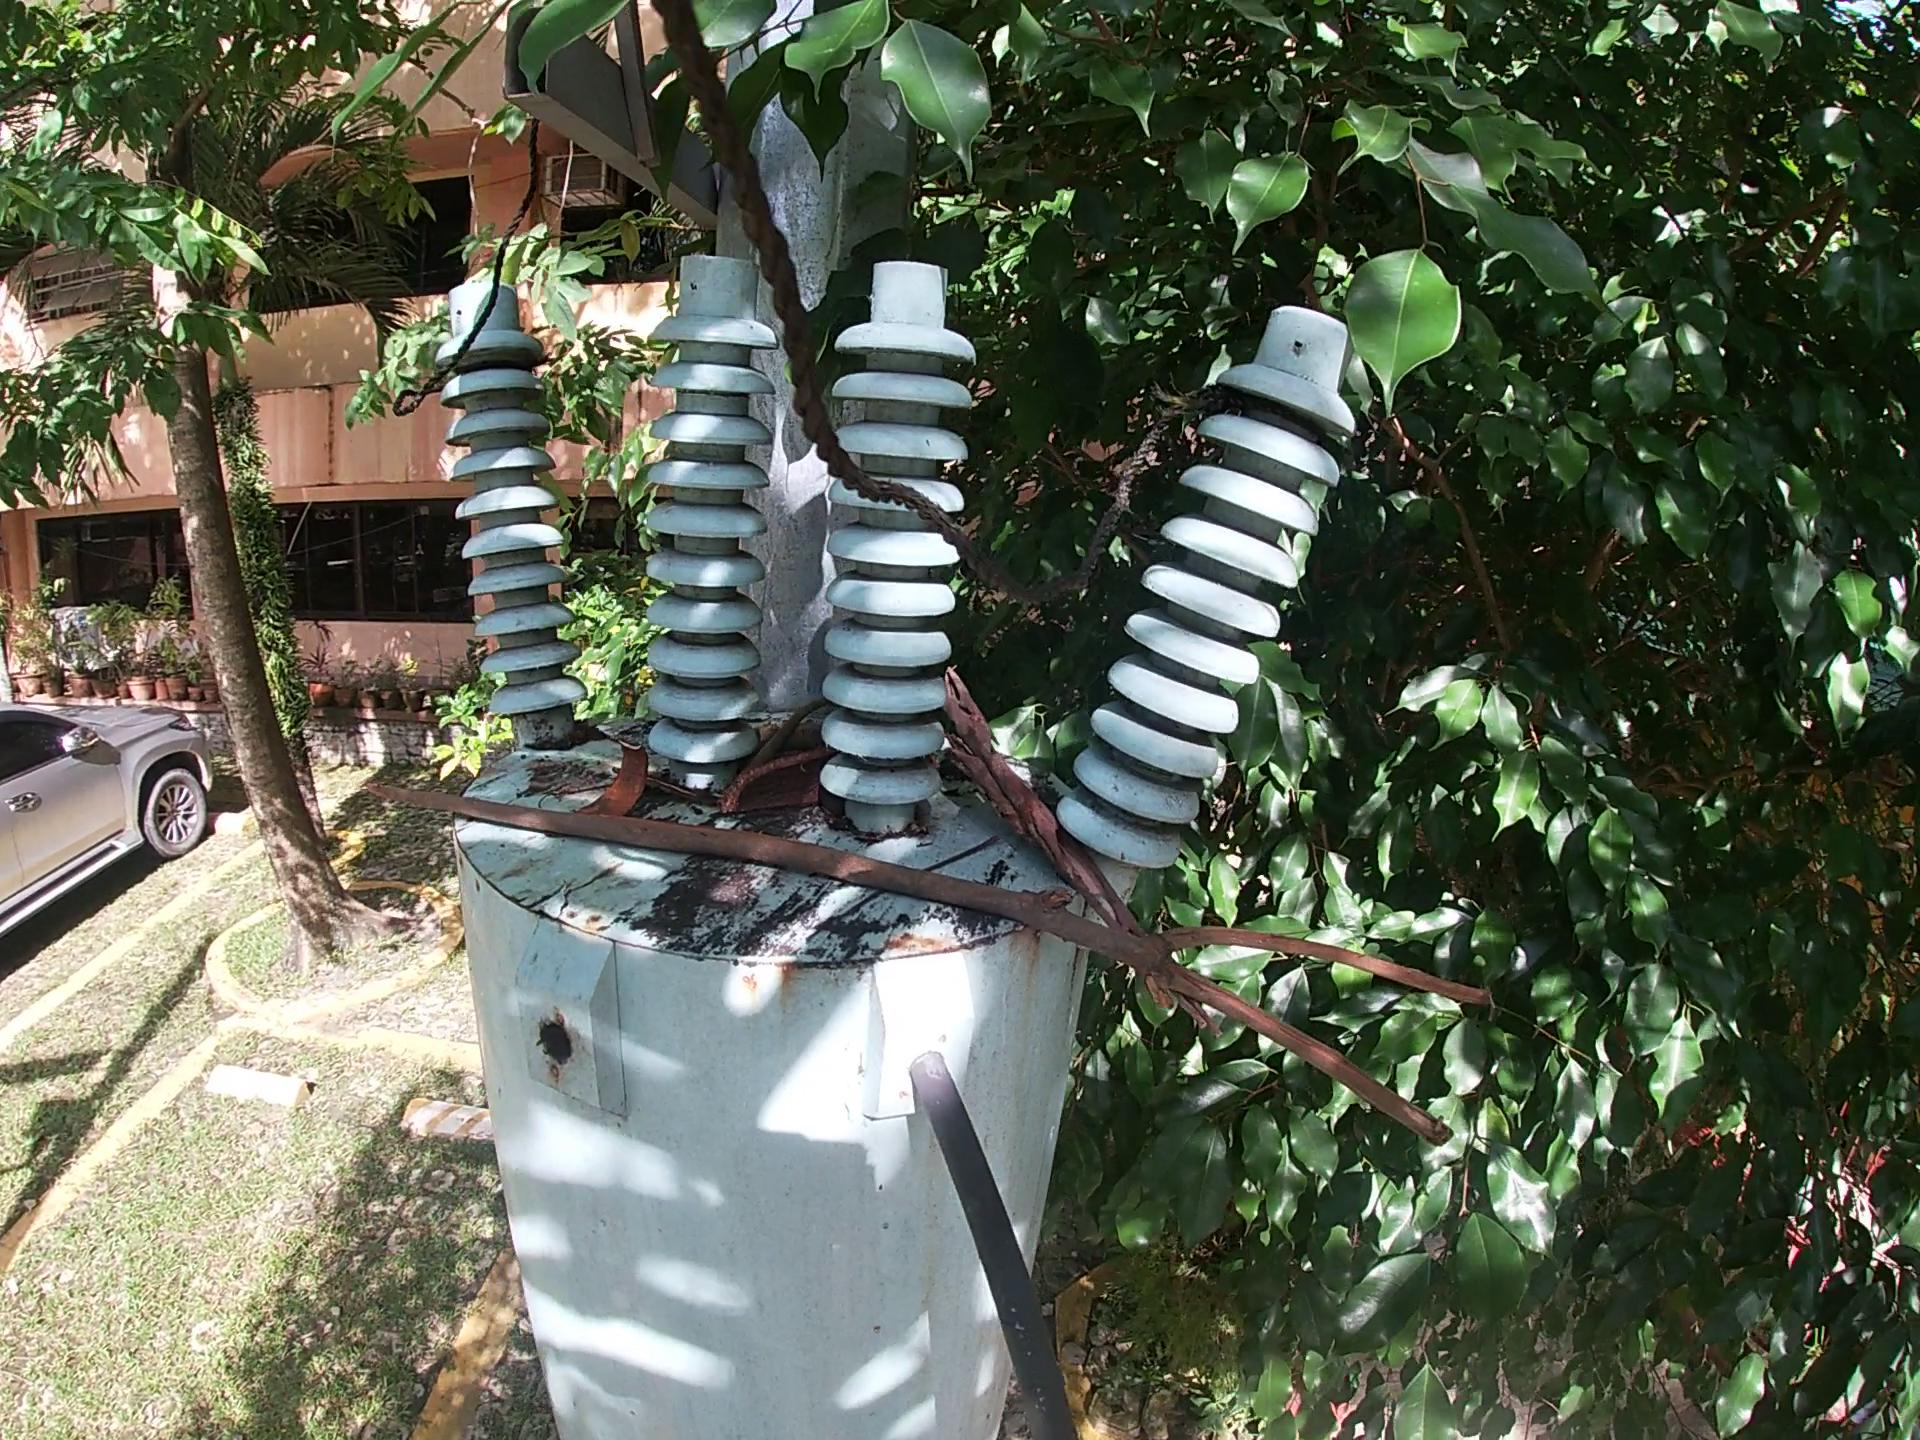mahogany fruit: (721, 749, 841, 820), (571, 734, 661, 821)
tree branch: (364, 768, 1506, 1150), (934, 666, 1219, 1032), (747, 693, 835, 776)
